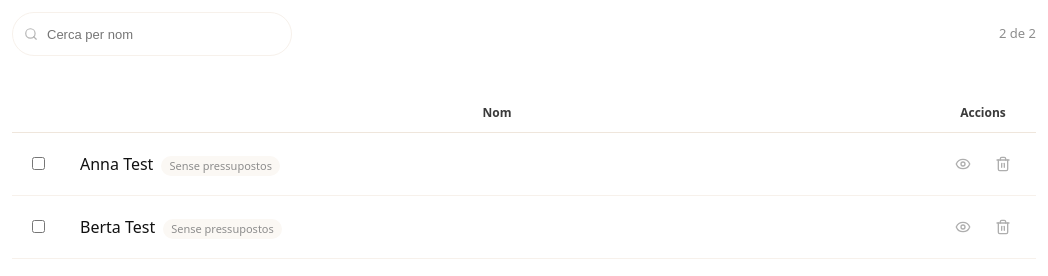
Test: ContactsView › shows selected count when two checkboxes are checked
Click the checkbox named "Seleccionar Anna Test" at {"x": 38, "y": 164}, box [32, 157, 45, 170]
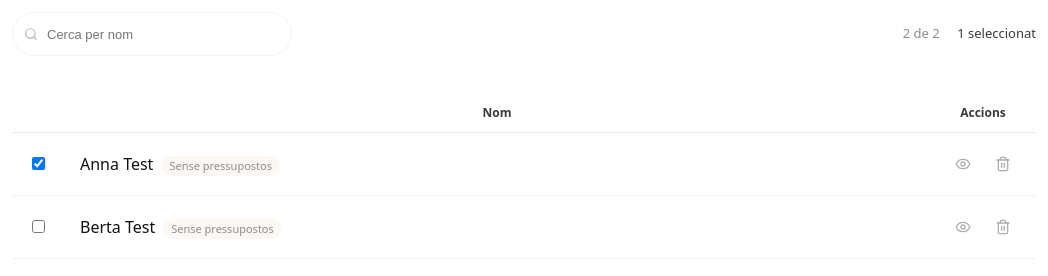
Click the checkbox named "Seleccionar Berta Test" at {"x": 38, "y": 226}, box [32, 220, 45, 233]
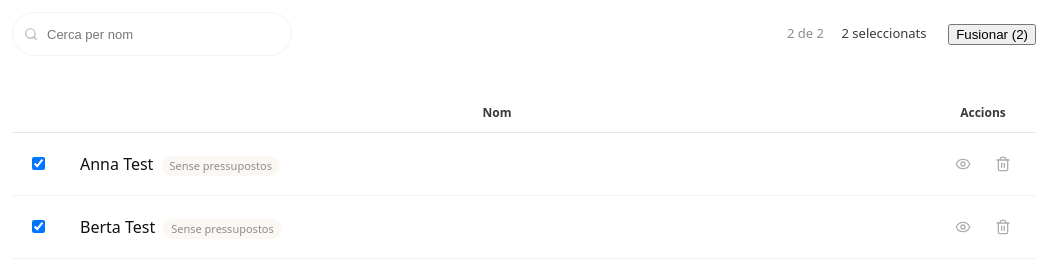
Result: the text "2 seleccionats" is shown at [842, 24, 926, 44]
